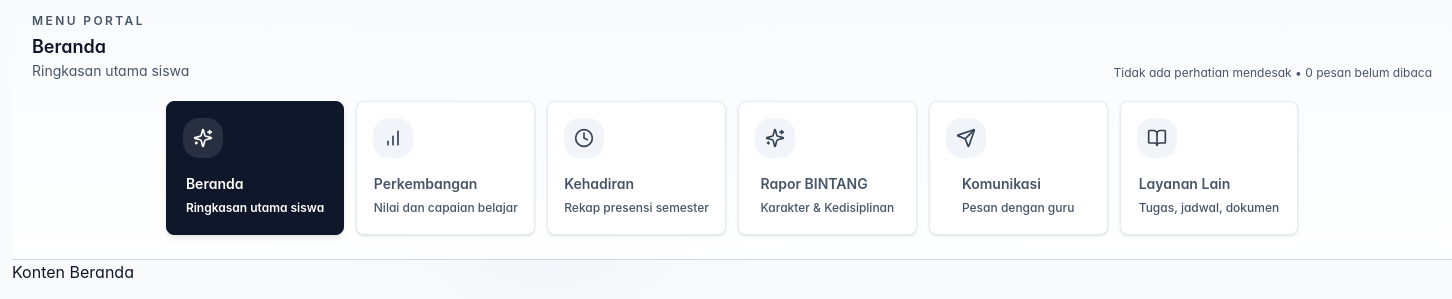
PortalNavigation › switches tab content when a portal tab is clicked
Check: the text "Konten Beranda" is shown, box [12, 262, 134, 282]
What coordinates should you click on to do the following:
click the tab "Komunikasi Pesan dengan guru"
I would click on:
 (1018, 168)
Its box is [929, 101, 1108, 235].
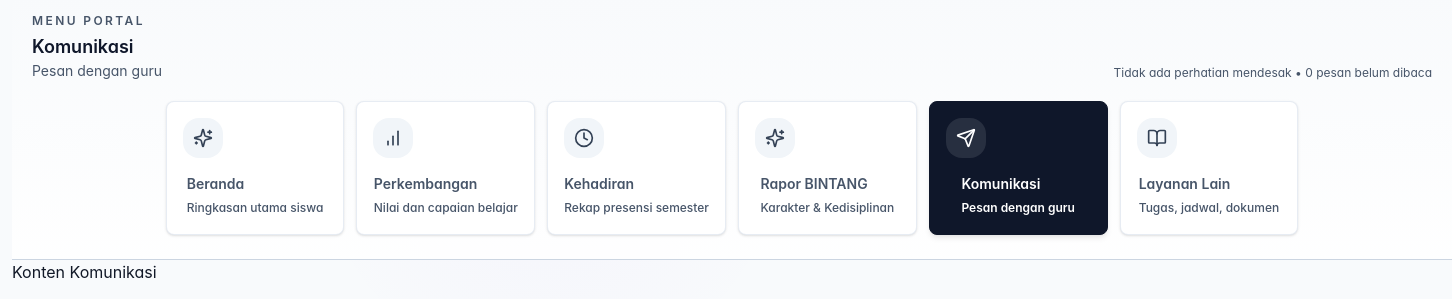
Check: the text "Konten Komunikasi" is shown, box [12, 262, 157, 282]
Check: the text "Konten Beranda" is gone
